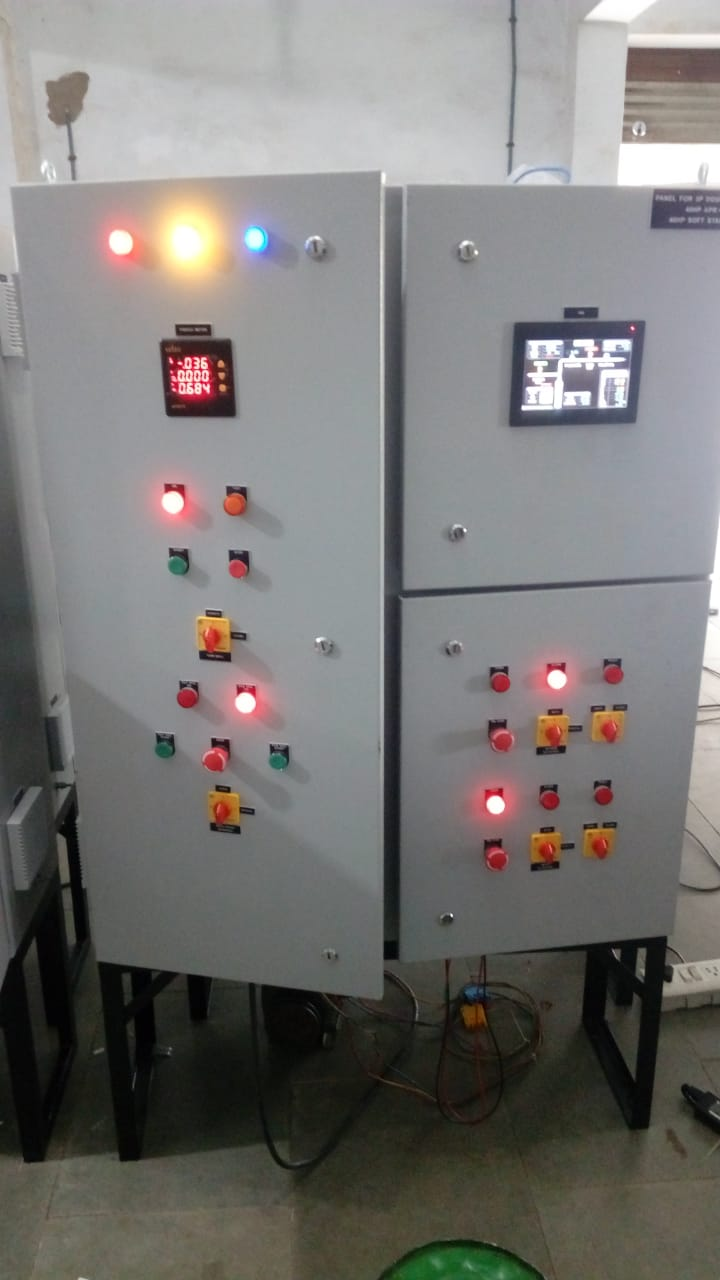Blue_Led_On: (239, 217, 282, 273)
Green_Led_Off: (147, 733, 182, 764), (263, 741, 295, 774), (166, 547, 193, 584)
Orange_Led_Off: (218, 485, 258, 528)
Red_Led_Off: (171, 684, 205, 719), (221, 553, 257, 583), (535, 782, 565, 818), (487, 666, 518, 697), (598, 660, 626, 690), (591, 781, 618, 812)
Red_Led_On: (97, 221, 146, 266), (152, 480, 196, 524), (228, 686, 265, 722), (541, 665, 572, 698), (482, 791, 511, 820)
Yellow_Led_On: (156, 209, 228, 278)
